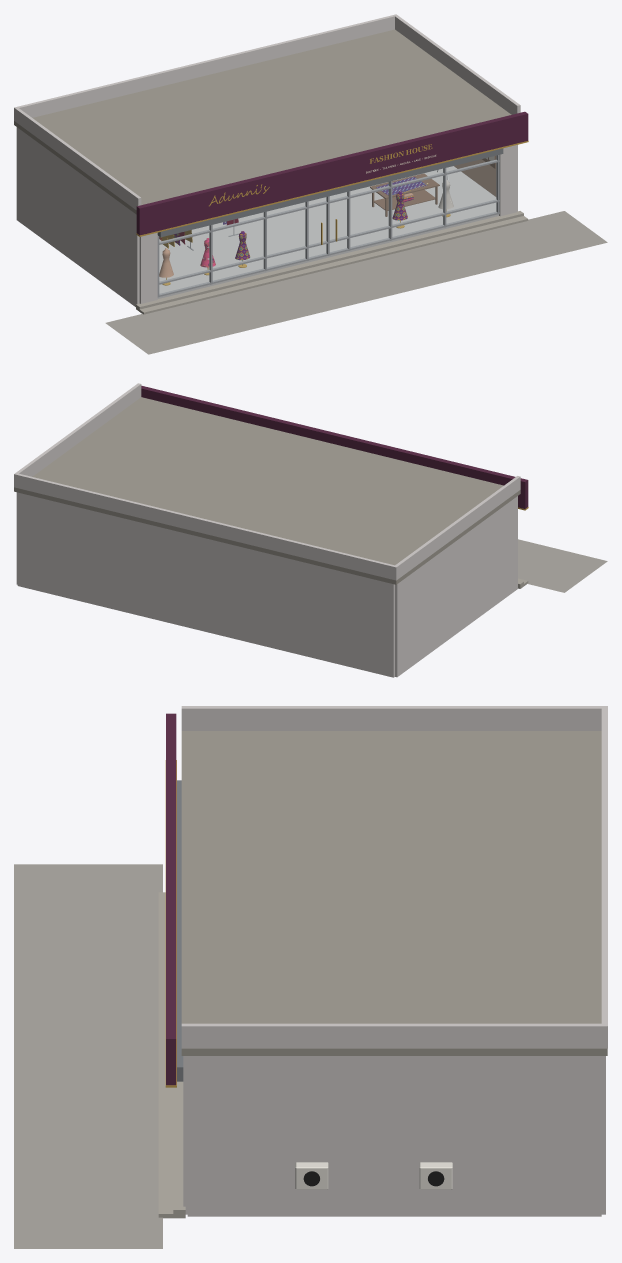
The model's file is set_gra_boutique.glb.
The picture shows the model from 3 angles, top to bottom: view 1: azimuth 30°, elevation 25°; view 2: azimuth 150°, elevation 25°; view 3: azimuth 270°, elevation 25°; orthographic projection. The views are drawn at different scales.
Parts seen in each view (by area): view 1: GR_Boutique, GR_BoutiqueYard; view 2: GR_Boutique, GR_BoutiqueYard; view 3: GR_Boutique, GR_BoutiqueYard.
Part boxes in pixels (left/top/right/bottom): GR_Boutique: left=14, top=14, right=528, bottom=314; GR_BoutiqueYard: left=105, top=211, right=607, bottom=354; GR_Boutique: left=14, top=383, right=528, bottom=677; GR_BoutiqueYard: left=518, top=539, right=607, bottom=592; GR_Boutique: left=158, top=706, right=607, bottom=1218; GR_BoutiqueYard: left=14, top=864, right=162, bottom=1248.
Size of the model in its own units: 22 by 5.1 by 14.36.
50 materials, 12 textured.
